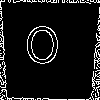O: (24, 25, 60, 73)
